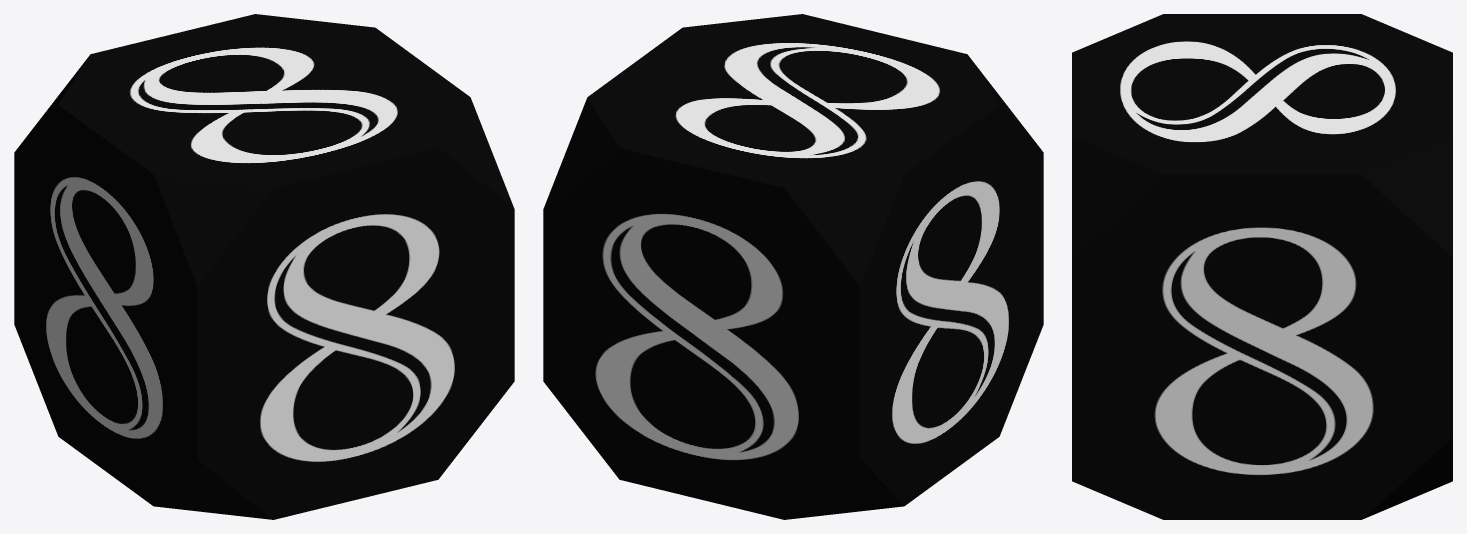
File: BlockBase-8.fbx
The picture shows the model from 3 angles, left to right: view 1: azimuth 30°, elevation 25°; view 2: azimuth 150°, elevation 25°; view 3: azimuth 270°, elevation 25°; orthographic projection. The views are drawn at different scales.
Parts seen in each view (by area): view 1: Cube.007; view 2: Cube.007; view 3: Cube.007.
Part boxes in pixels (x1=…): Cube.007: x1=14, y1=14, x2=514, y2=519; Cube.007: x1=543, y1=14, x2=1043, y2=519; Cube.007: x1=1072, y1=14, x2=1452, y2=519.
Size of the model in its own units: 50 by 50 by 50.
Materials: 1 (1 with a texture image).
